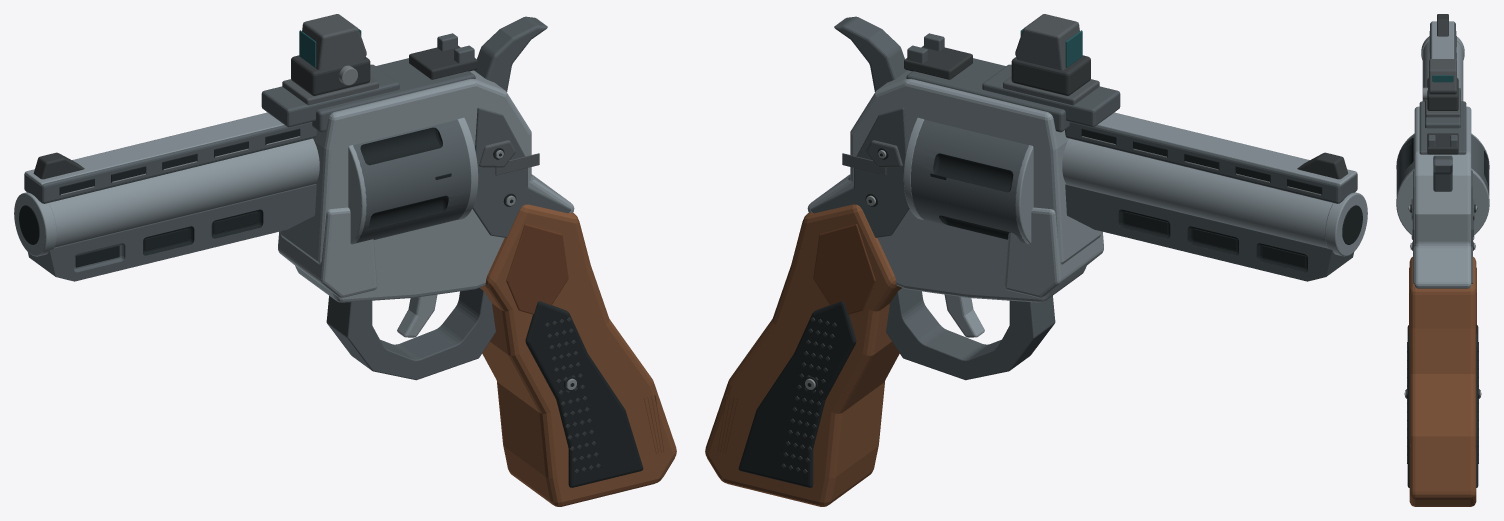
The model's file is revolver357.glb.
3 renders of one model, left to right at view 1: azimuth 30°, elevation 25°; view 2: azimuth 150°, elevation 25°; view 3: azimuth 270°, elevation 25°, orthographic. The views are drawn at different scales.
Parts seen in each view (by area): view 1: part_barrel_surfaces, part_frame_surfaces, part_grip_surfaces, part_cylinder_surfaces, part_controls_surfaces, part_inlays_surfaces, part_optic_surfaces, part_sights_surfaces; view 2: part_barrel_surfaces, part_frame_surfaces, part_grip_surfaces, part_cylinder_surfaces, part_controls_surfaces, part_inlays_surfaces, part_optic_surfaces, part_sights_surfaces; view 3: part_grip_surfaces, part_frame_surfaces, part_cylinder_surfaces, part_optic_surfaces, part_barrel_surfaces, part_inlays_surfaces, part_sights_surfaces, part_controls_surfaces.
Boxes of the visible parts, x1,y1,x2,y2 form: part_barrel_surfaces: (14,112,319,281); part_frame_surfaces: (278,58,574,302); part_grip_surfaces: (479,204,676,506); part_cylinder_surfaces: (348,117,478,244); part_controls_surfaces: (326,16,547,380); part_inlays_surfaces: (525,301,643,487); part_optic_surfaces: (261,14,399,127); part_sights_surfaces: (33,33,477,179); part_barrel_surfaces: (1062,112,1367,281); part_frame_surfaces: (807,58,1103,302); part_grip_surfaces: (705,204,902,506); part_cylinder_surfaces: (903,117,1033,244); part_controls_surfaces: (834,16,1055,380); part_inlays_surfaces: (738,301,856,487); part_optic_surfaces: (982,14,1120,127); part_sights_surfaces: (904,33,1348,179); part_grip_surfaces: (1409,257,1476,506); part_frame_surfaces: (1410,101,1475,288); part_cylinder_surfaces: (1396,133,1489,235); part_optic_surfaces: (1423,59,1460,128); part_barrel_surfaces: (1421,21,1464,101); part_inlays_surfaces: (1404,325,1481,487); part_sights_surfaces: (1427,14,1458,154); part_controls_surfaces: (1408,155,1477,220).
Size of the model in its own units: 99.9 by 78.86 by 19.4.
